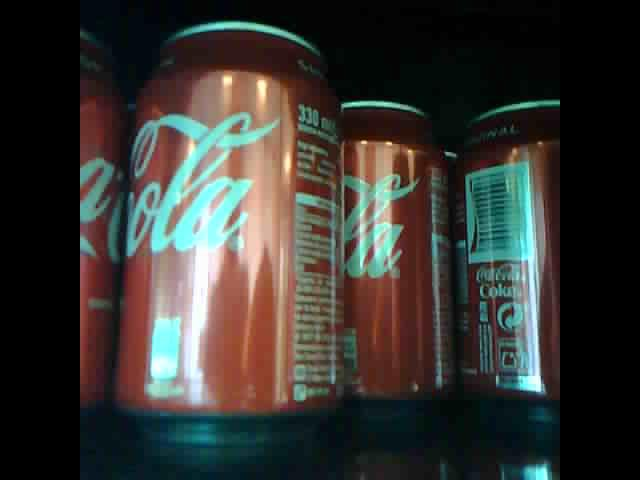coca cola: (115, 18, 340, 422), (335, 90, 459, 417), (460, 92, 561, 414), (79, 54, 129, 415)
